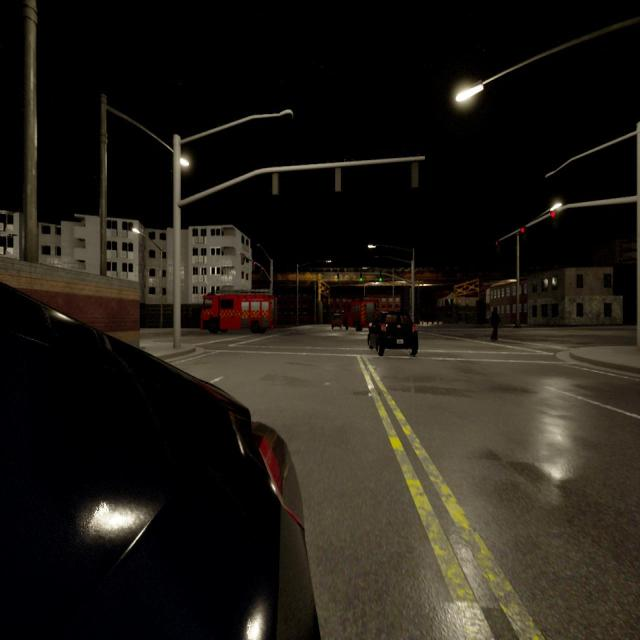Pedestrian: (490, 306, 500, 341)
Vehicle: (0, 286, 314, 640), (201, 290, 275, 333), (368, 312, 418, 354), (346, 299, 382, 331), (332, 314, 342, 329)
traffic_light: (412, 161, 418, 187), (335, 167, 341, 191), (273, 172, 278, 194), (241, 254, 245, 264), (551, 212, 555, 218), (379, 274, 382, 281), (360, 272, 362, 282), (337, 273, 339, 282), (253, 262, 256, 268), (521, 228, 525, 232), (261, 267, 263, 273), (496, 241, 497, 245)
